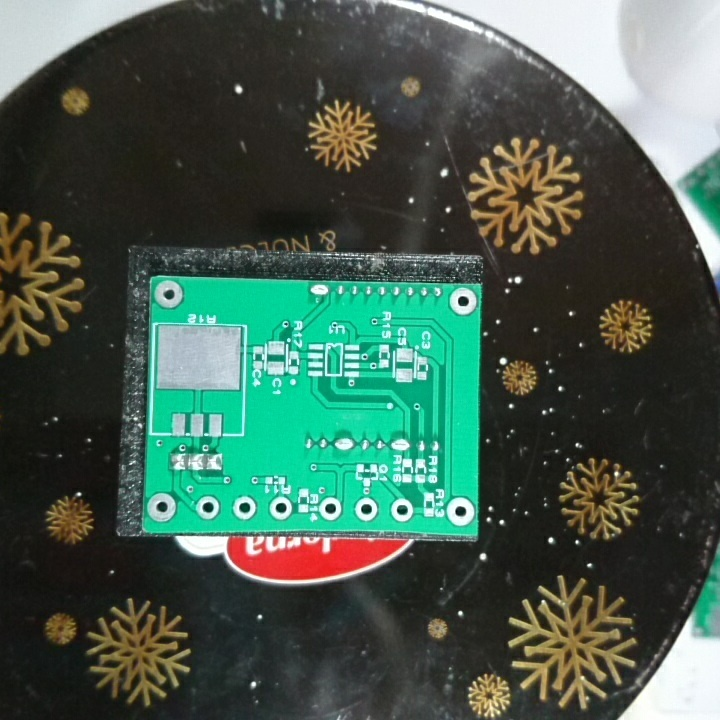F: (445, 494, 477, 529), (145, 491, 177, 523), (448, 284, 477, 318), (153, 278, 183, 310), (231, 495, 259, 522), (388, 497, 415, 524), (268, 495, 294, 523), (194, 495, 222, 520), (354, 496, 379, 523), (319, 494, 342, 523)
P: (332, 434, 356, 454), (308, 280, 330, 301), (388, 435, 410, 455)
